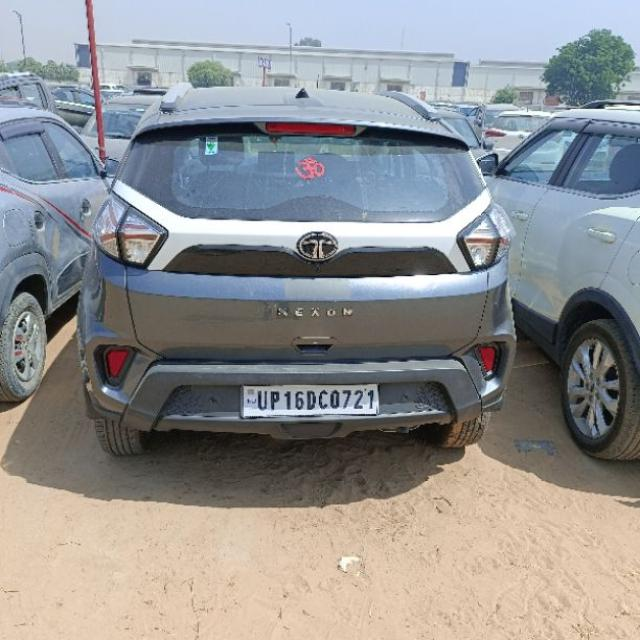license_plate: (238, 382, 379, 418)
